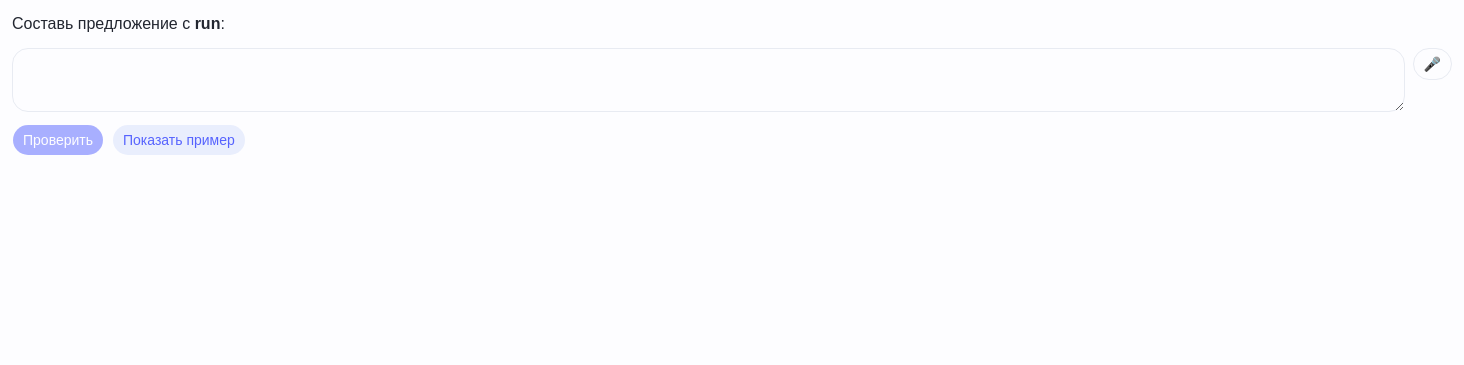
Scenario: SentencePractice › checks a sentence and shows feedback
In the text box: (708, 80) [12,48,1404,112], type "I runned."
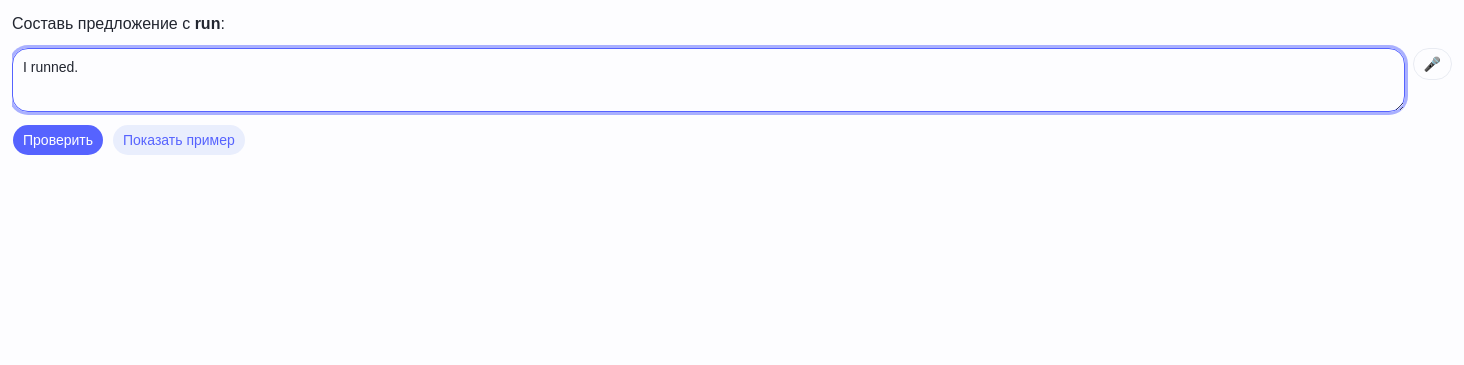
Click the button "Проверить": (58, 140) [12,124,104,156]
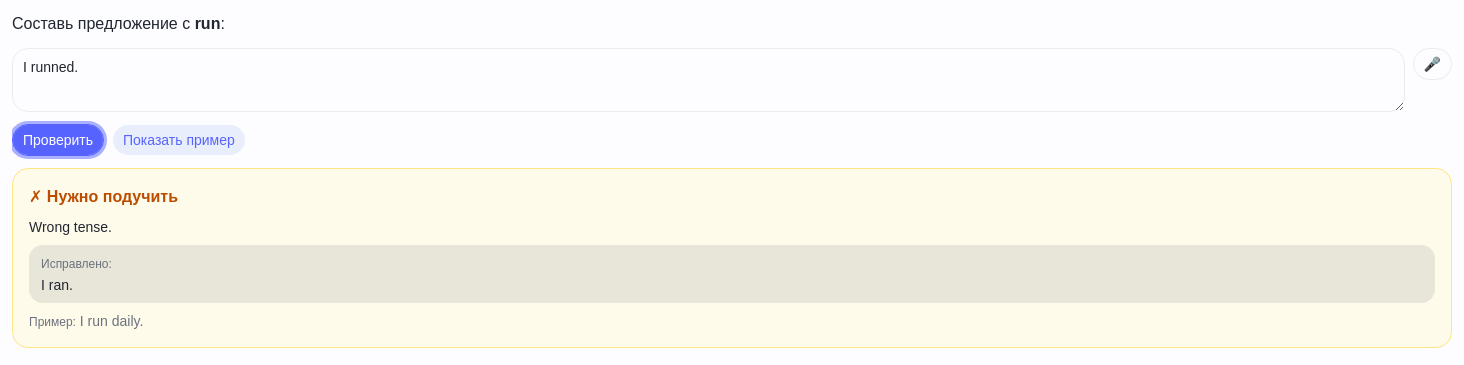
Expected: the text "Wrong tense." is shown, [29,219,112,235]
Expected: the text "I ran." is shown, [41,277,73,293]
